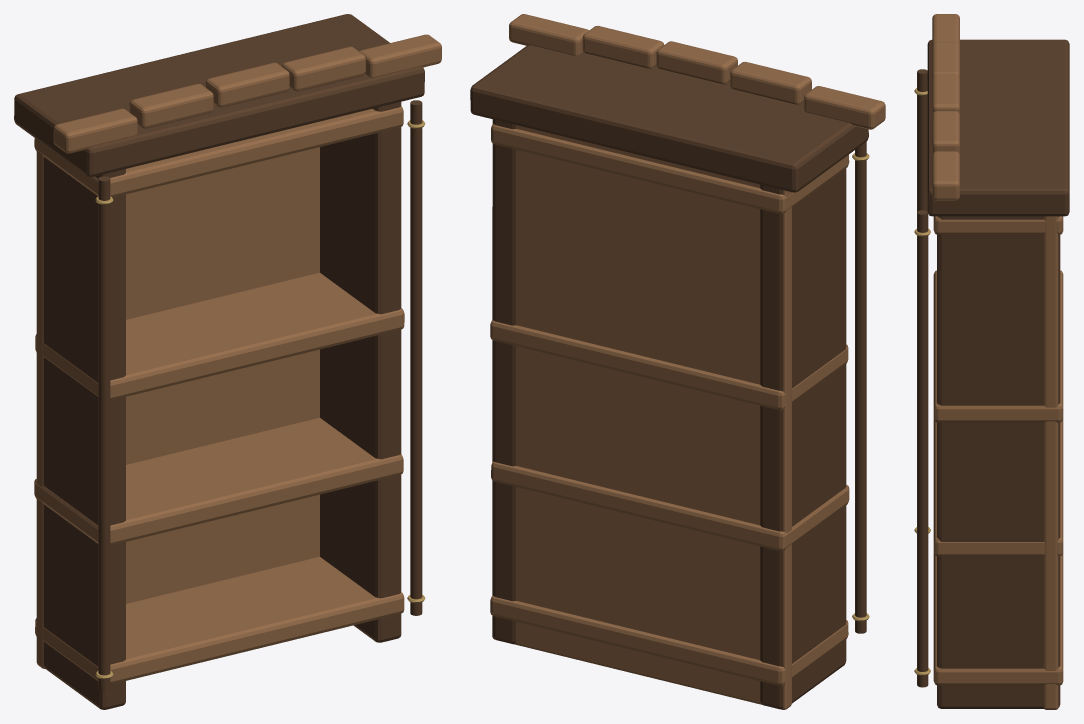
The model's file is SM_HH_Q3_Bookcase.fbx.
3 renders of one model, left to right at view 1: azimuth 30°, elevation 25°; view 2: azimuth 150°, elevation 25°; view 3: azimuth 270°, elevation 25°, orthographic. The views are drawn at different scales.
Visible parts, largest first — view 1: HH_Q3_Bookcase; view 2: HH_Q3_Bookcase; view 3: HH_Q3_Bookcase.
Part boxes in pixels (left/top/right/bottom): HH_Q3_Bookcase: left=14, top=14, right=441, bottom=709; HH_Q3_Bookcase: left=470, top=14, right=885, bottom=709; HH_Q3_Bookcase: left=914, top=14, right=1069, bottom=709.
Bounding box in the file's own units: 0.503 × 1.3 × 1.98.
